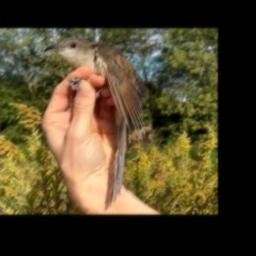Cuckoo: (44, 36, 147, 207)
